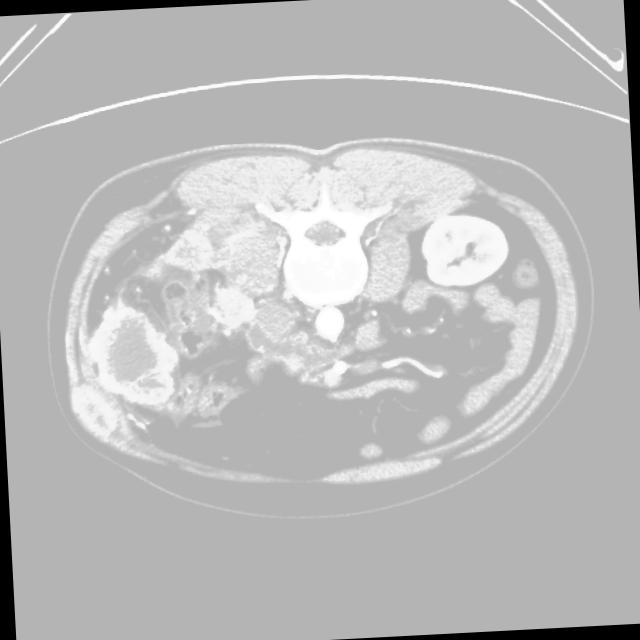TUMOR: (95, 198, 556, 454)
